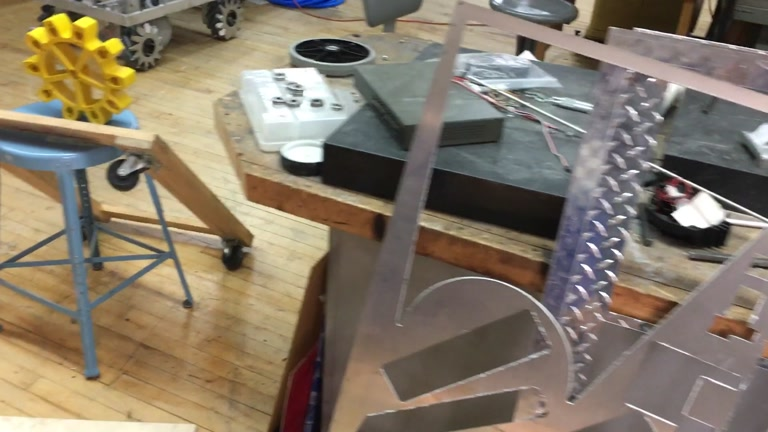gear: (23, 12, 133, 125)
